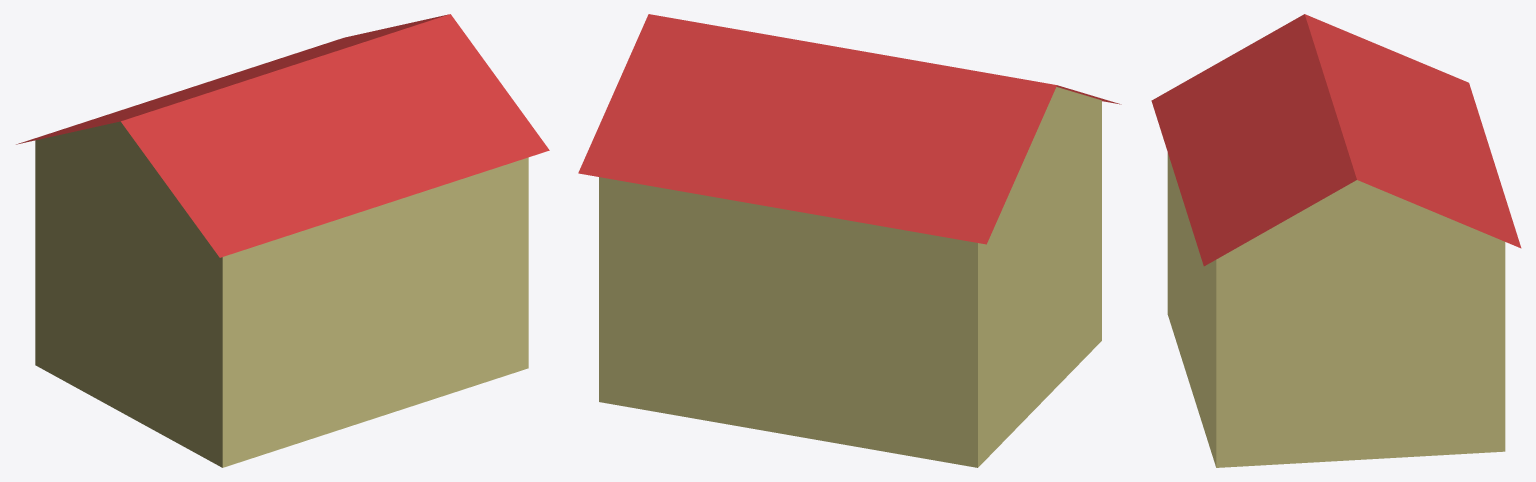
3 renders of one model, left to right at view 1: azimuth 30°, elevation 25°; view 2: azimuth 150°, elevation 25°; view 3: azimuth 270°, elevation 25°, orthographic. The views are drawn at different scales.
Bounding box in the file's own units: 15.09 × 12.84 × 10.96.
